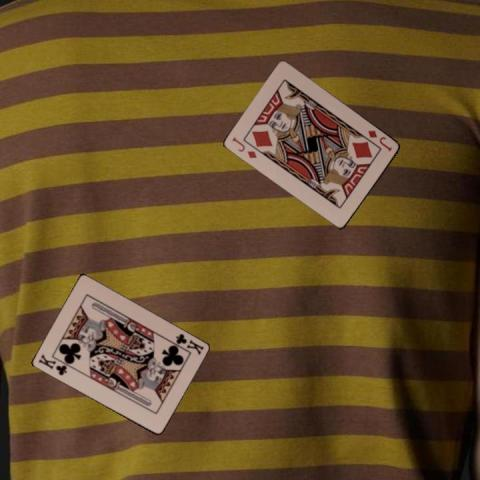Jd: (229, 134, 259, 160), (365, 127, 394, 153)
Kc: (35, 351, 68, 377), (172, 331, 204, 356)
